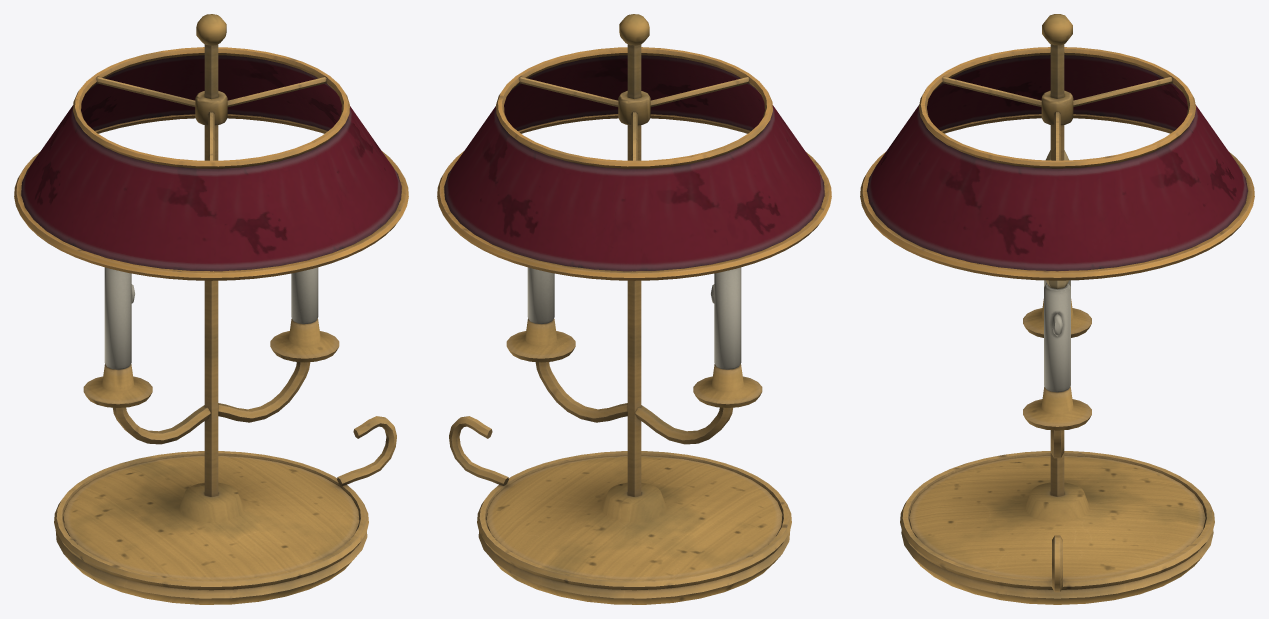
The model's file is CandleLamp.fbx.
The picture shows the model from 3 angles, left to right: view 1: azimuth 30°, elevation 25°; view 2: azimuth 150°, elevation 25°; view 3: azimuth 270°, elevation 25°; orthographic projection.
Visible parts, largest first — view 1: CandleLamp_Main; view 2: CandleLamp_Main; view 3: CandleLamp_Main.
Boxes of the visible parts, bbox=[...] form: CandleLamp_Main: bbox=[14, 14, 408, 604]; CandleLamp_Main: bbox=[437, 14, 831, 604]; CandleLamp_Main: bbox=[860, 14, 1254, 604].
Bounding box in the file's own units: 152 × 216 × 147.
